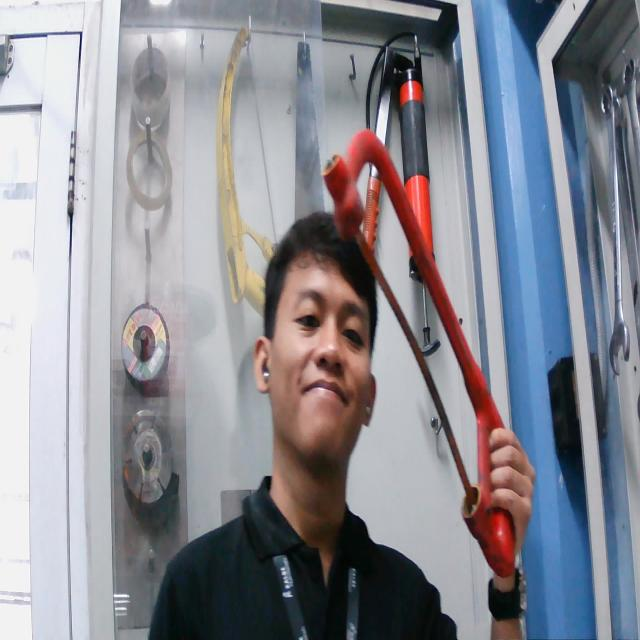gergaji_besi: (318, 127, 532, 582)
